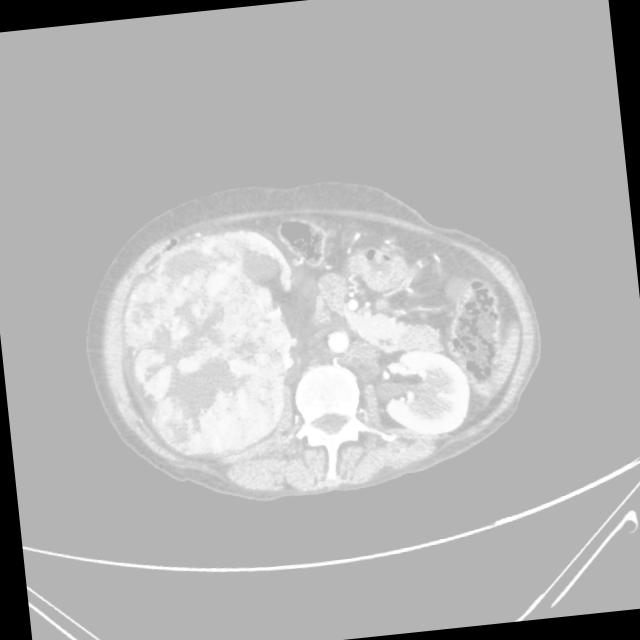TUMOR: (292, 203, 551, 421)
